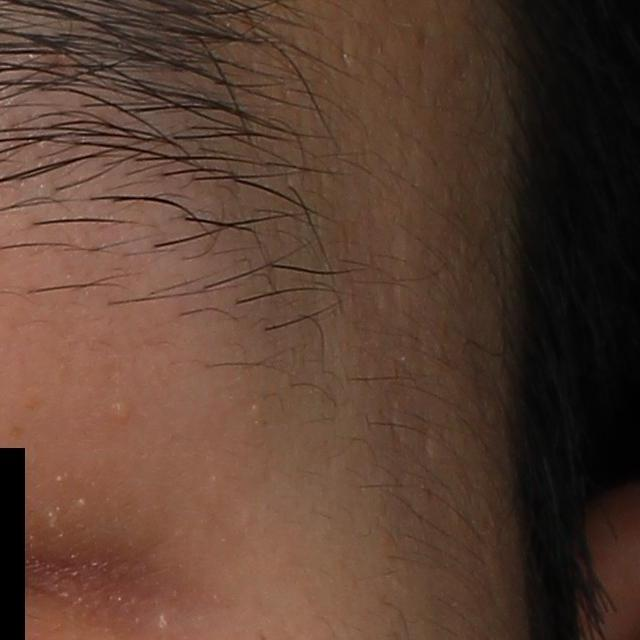other: (108, 397, 136, 421), (76, 496, 88, 508)
